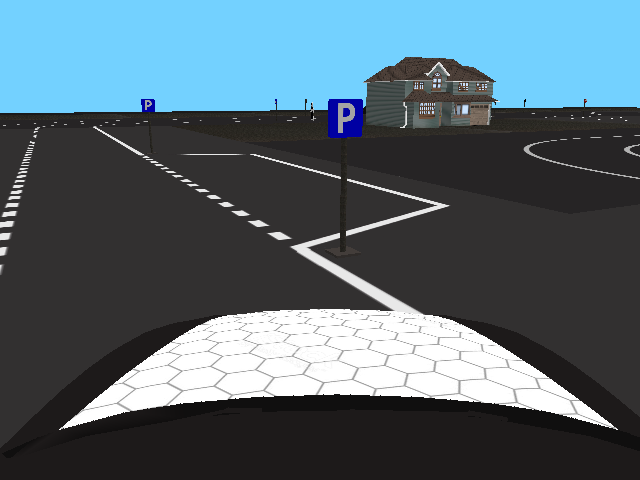parking: (327, 99, 365, 140), (139, 98, 156, 114)
